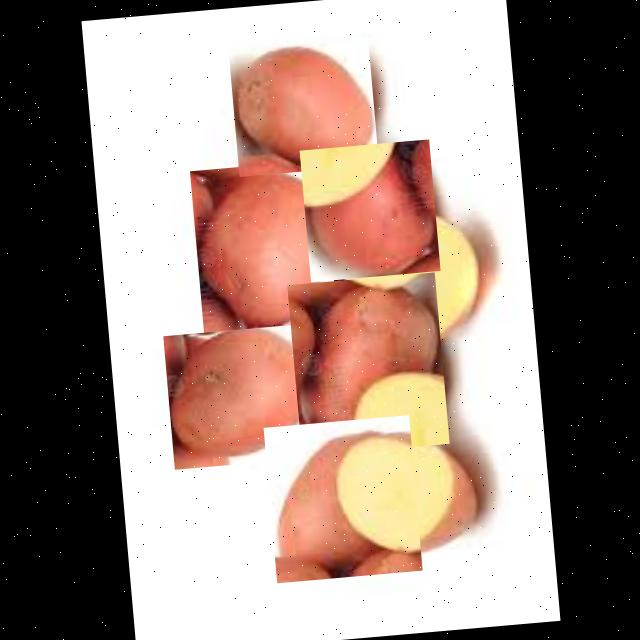Defected potato: (287, 271, 449, 455), (190, 158, 338, 341), (263, 414, 422, 582), (162, 322, 326, 468), (228, 36, 379, 176), (299, 138, 440, 281)
